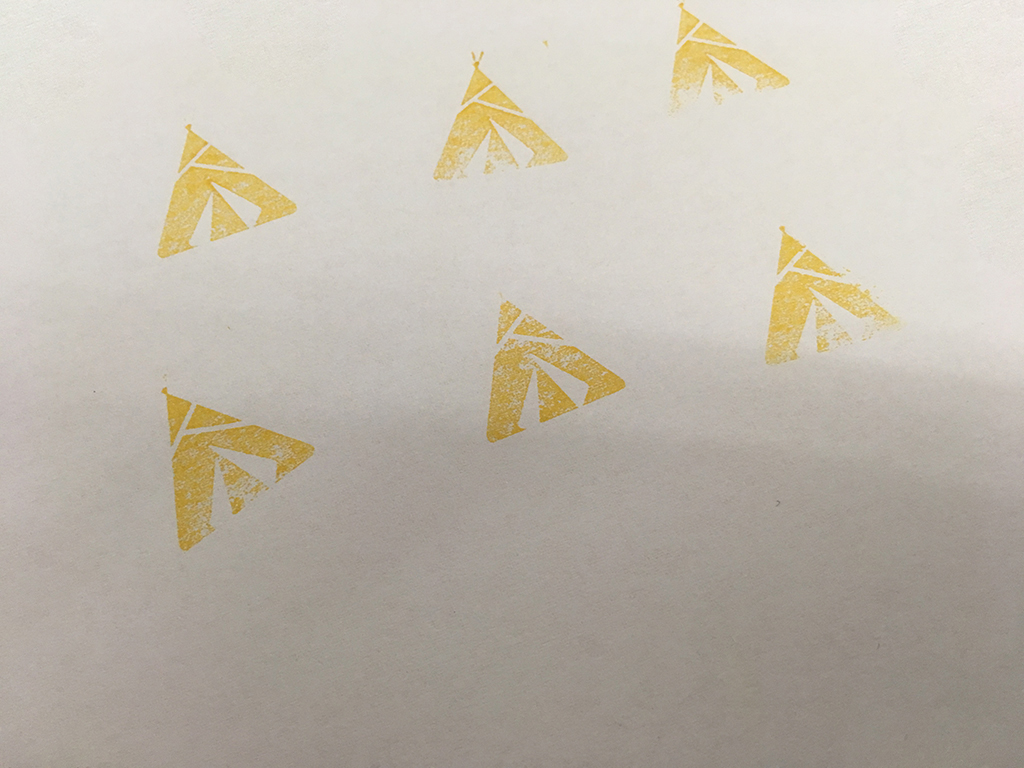tent: (148, 379, 323, 562), (473, 282, 636, 453), (147, 111, 308, 269), (758, 219, 914, 377), (426, 42, 573, 191), (666, 1, 797, 135)
